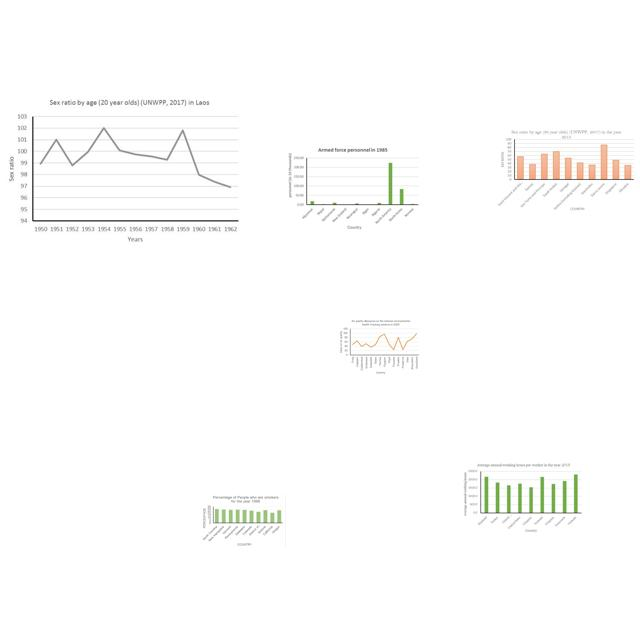Graph: (1, 96, 241, 249), (285, 145, 420, 232), (496, 128, 636, 211), (463, 462, 583, 533), (338, 318, 420, 376), (201, 494, 286, 547)
